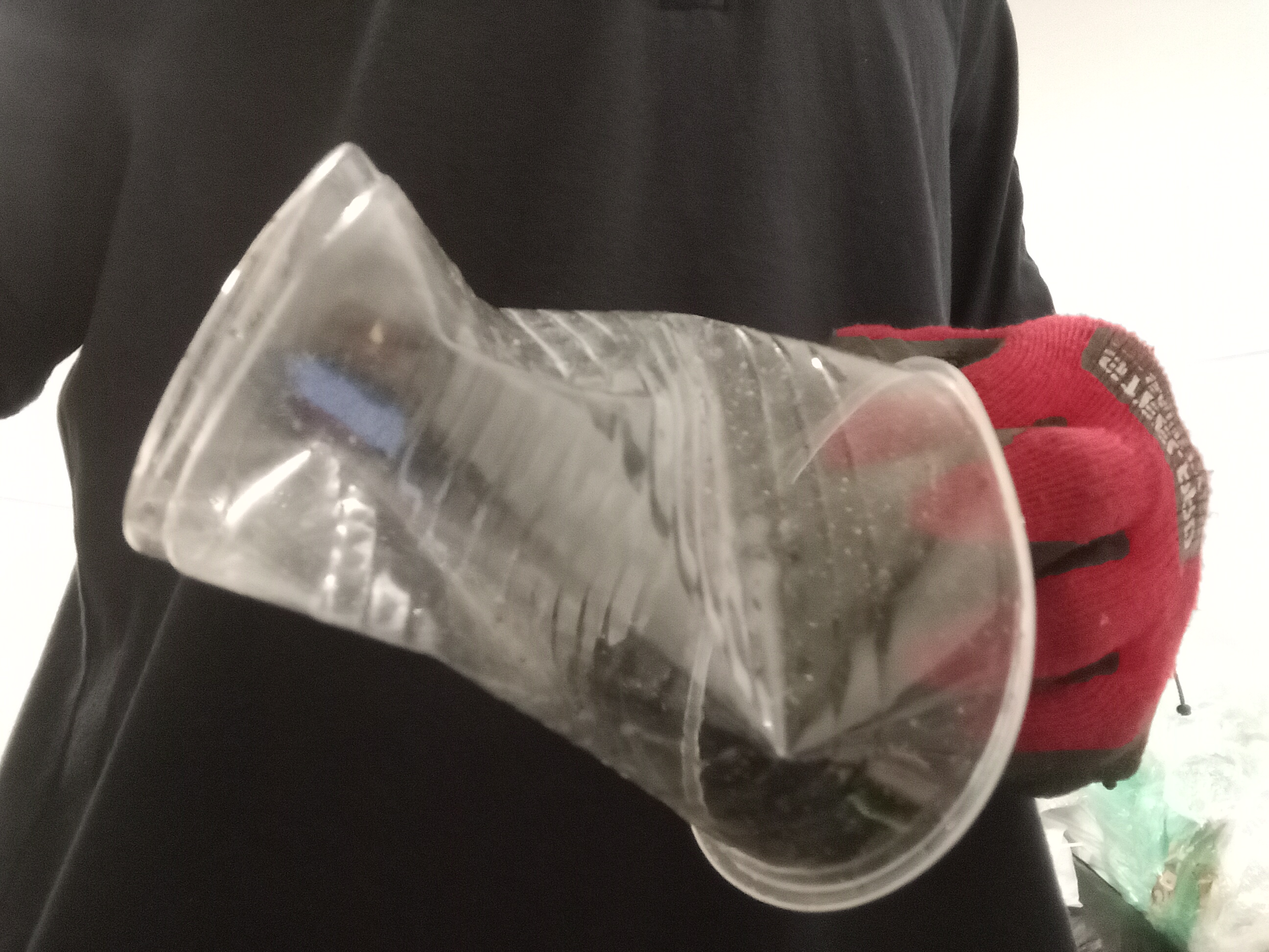Plastico: (123, 143, 1037, 915)
